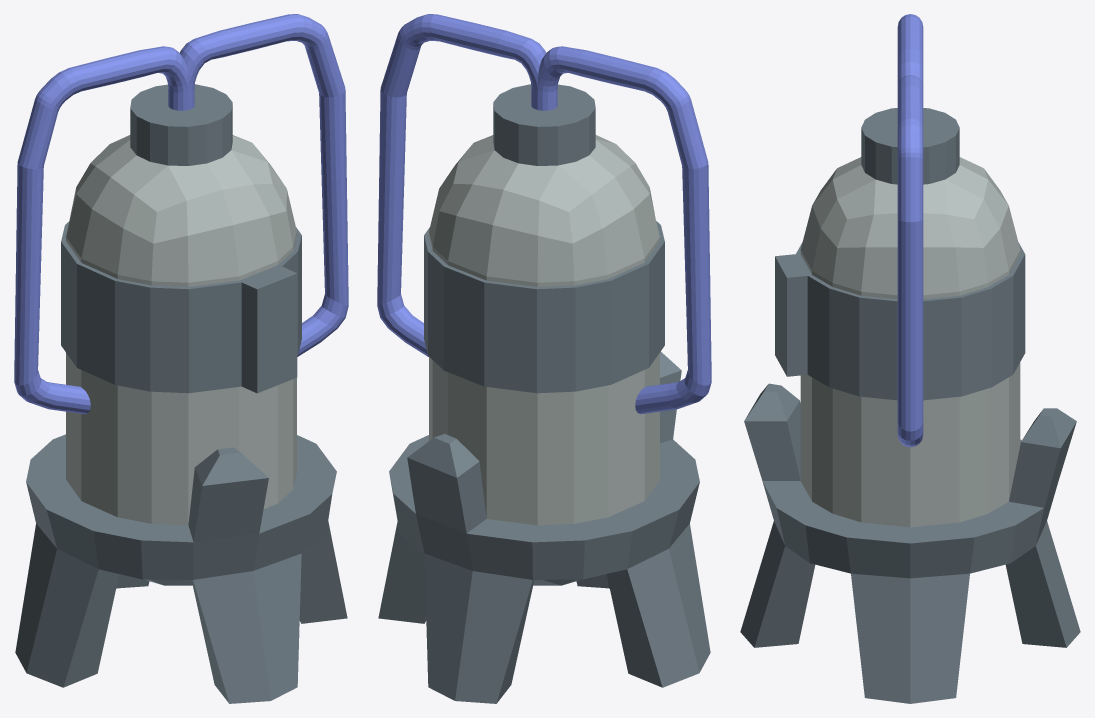
Rendered from Tanks_1_Blue 2.fbx.
The picture shows the model from 3 angles, left to right: view 1: azimuth 30°, elevation 25°; view 2: azimuth 150°, elevation 25°; view 3: azimuth 270°, elevation 25°; orthographic projection. The views are drawn at different scales.
Visible parts, largest first — view 1: ReservoirTank; view 2: ReservoirTank; view 3: ReservoirTank.
Boxes of the visible parts, x1,y1,x2,y2 form: ReservoirTank: (14,14,348,703); ReservoirTank: (377,14,711,703); ReservoirTank: (740,14,1080,703).
Bounding box in the file's own units: 435 × 747 × 408.
